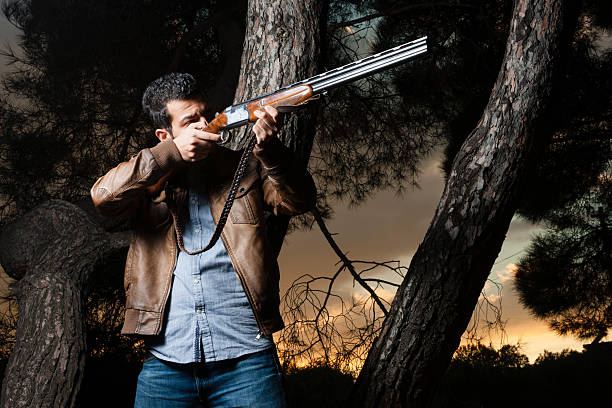shotgun: (209, 34, 434, 135)
